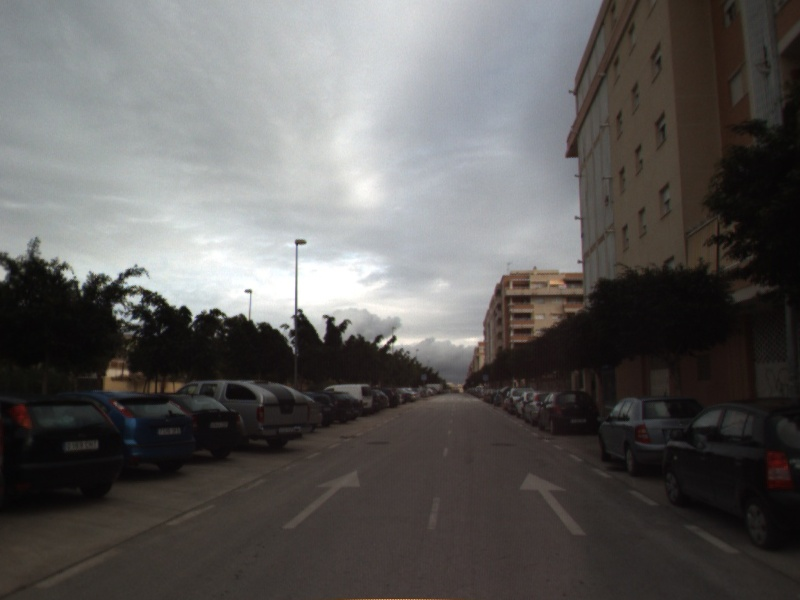STRAIGHT: (280, 468, 362, 531), (517, 470, 589, 537)
